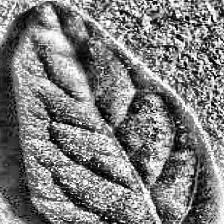leaf mold: (11, 0, 221, 224)
